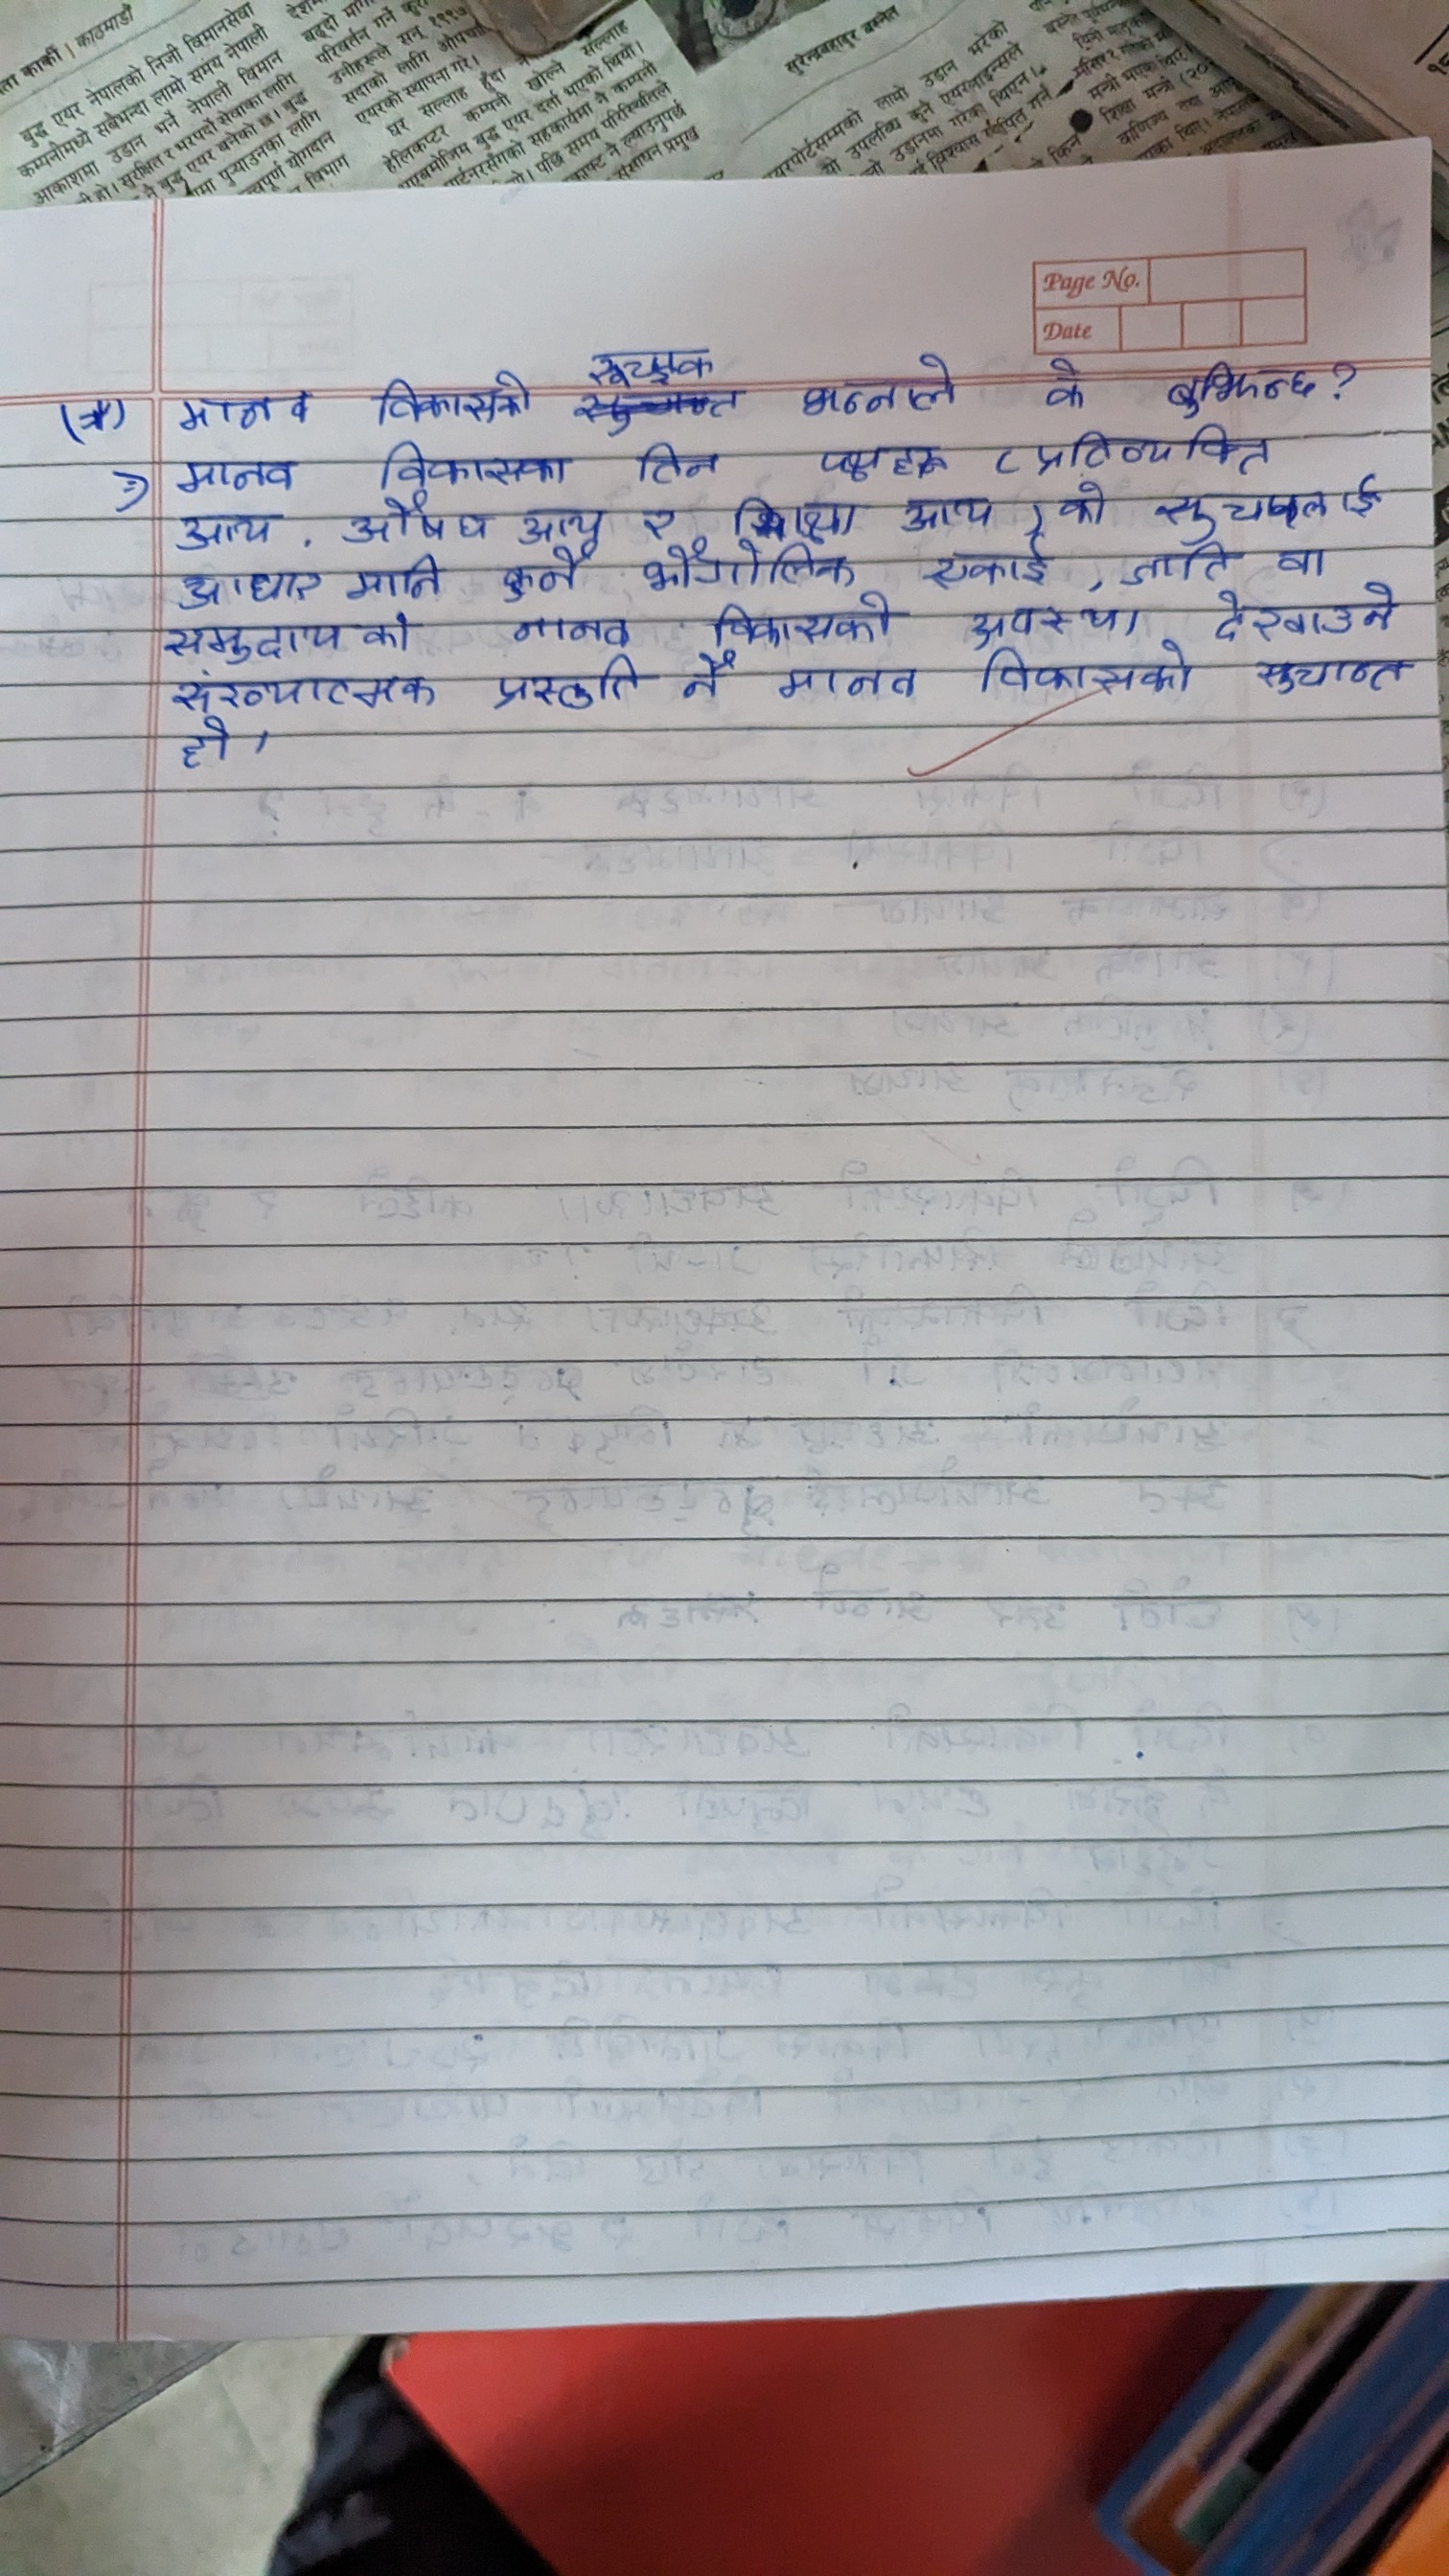text: (787, 333, 964, 416), (973, 653, 1198, 718), (1157, 478, 1392, 534), (163, 614, 410, 665), (154, 370, 341, 432), (161, 669, 433, 711), (370, 433, 575, 487), (1155, 357, 1323, 421), (1023, 428, 1274, 471), (706, 596, 897, 649), (370, 370, 538, 428), (1201, 594, 1410, 639), (485, 653, 648, 708), (639, 548, 856, 589), (959, 602, 1154, 646), (333, 492, 488, 547), (1246, 651, 1417, 701), (577, 331, 729, 380), (810, 435, 952, 485), (166, 563, 324, 607), (777, 665, 932, 708), (922, 541, 1056, 589), (623, 439, 729, 495), (729, 497, 858, 541), (1118, 543, 1238, 589), (1028, 343, 1097, 423), (179, 453, 301, 495), (501, 614, 646, 649), (347, 550, 442, 602), (674, 651, 747, 718), (504, 547, 594, 600), (892, 494, 998, 536), (517, 494, 607, 543), (172, 515, 276, 554), (168, 717, 239, 773), (1056, 481, 1120, 534), (1274, 543, 1334, 582), (635, 502, 679, 541)
